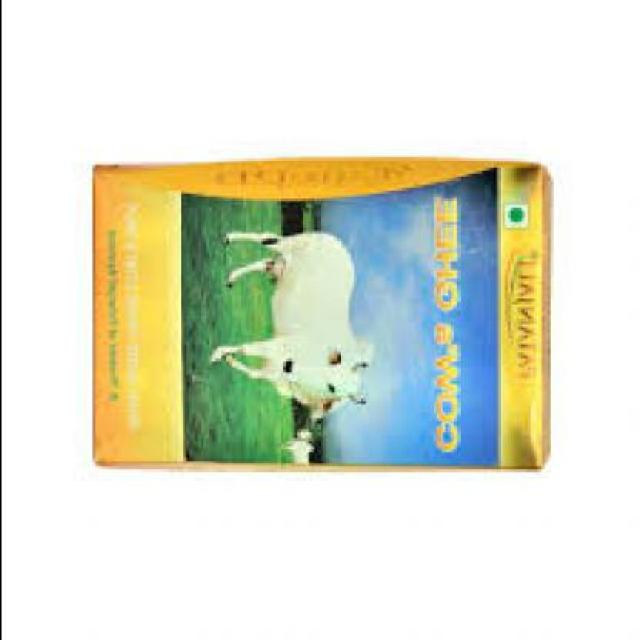CARDBOARD: (91, 162, 552, 476)
